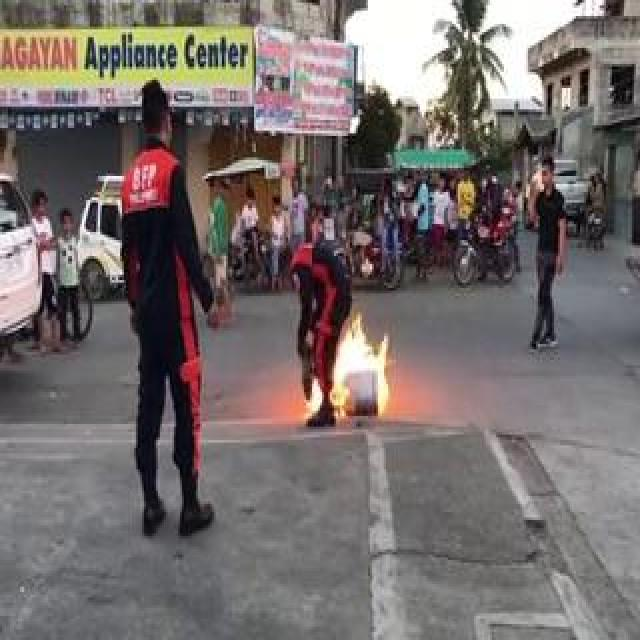Smoke: (304, 315, 392, 421)
